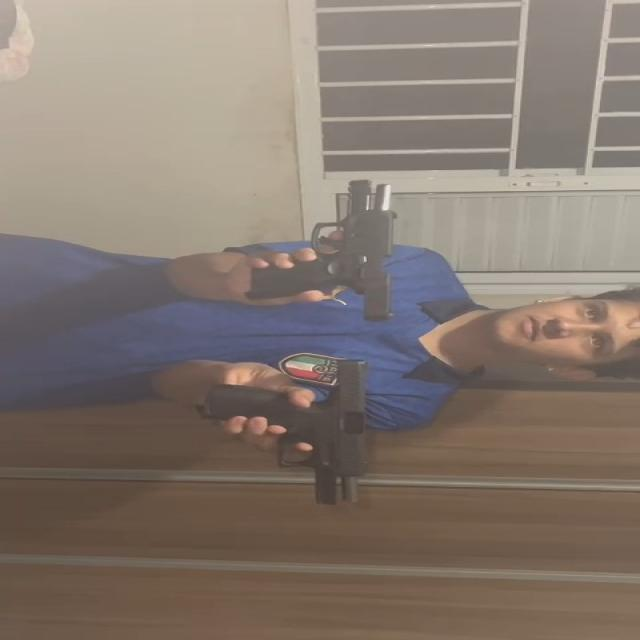gun: (204, 354, 374, 506), (242, 179, 402, 323)
